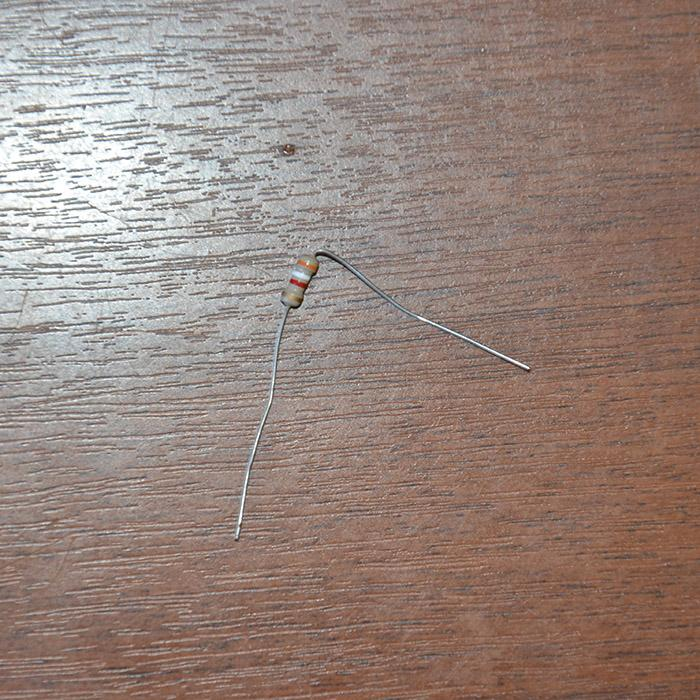resistor: (281, 252, 318, 308)
